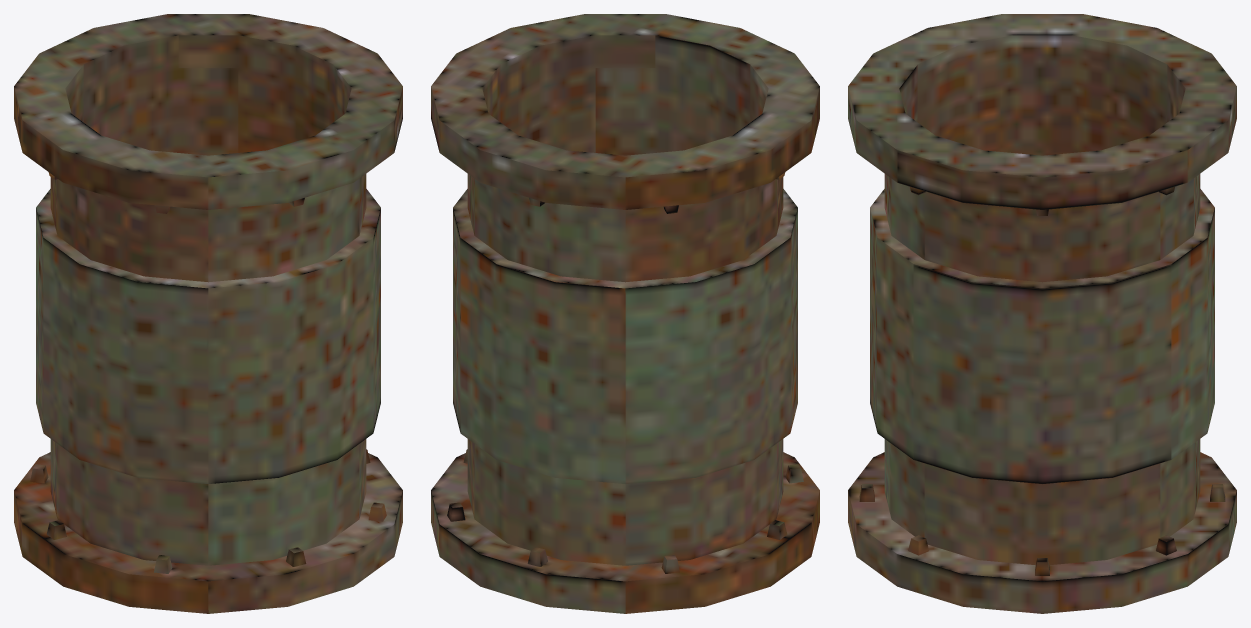
Rendered from Pipe_Set_1_5.glb.
The picture shows the model from 3 angles, left to right: view 1: azimuth 30°, elevation 25°; view 2: azimuth 150°, elevation 25°; view 3: azimuth 270°, elevation 25°; orthographic projection.
Visible parts, largest first — view 1: Pipe_Set_1_5; view 2: Pipe_Set_1_5; view 3: Pipe_Set_1_5.
Part boxes in pixels (<box>): Pipe_Set_1_5: <box>14,14,402,613</box>; Pipe_Set_1_5: <box>431,14,819,613</box>; Pipe_Set_1_5: <box>848,14,1236,613</box>.
Size of the model in its own units: 0.2686 by 0.3346 by 0.2701.
1 material, 1 textured.
